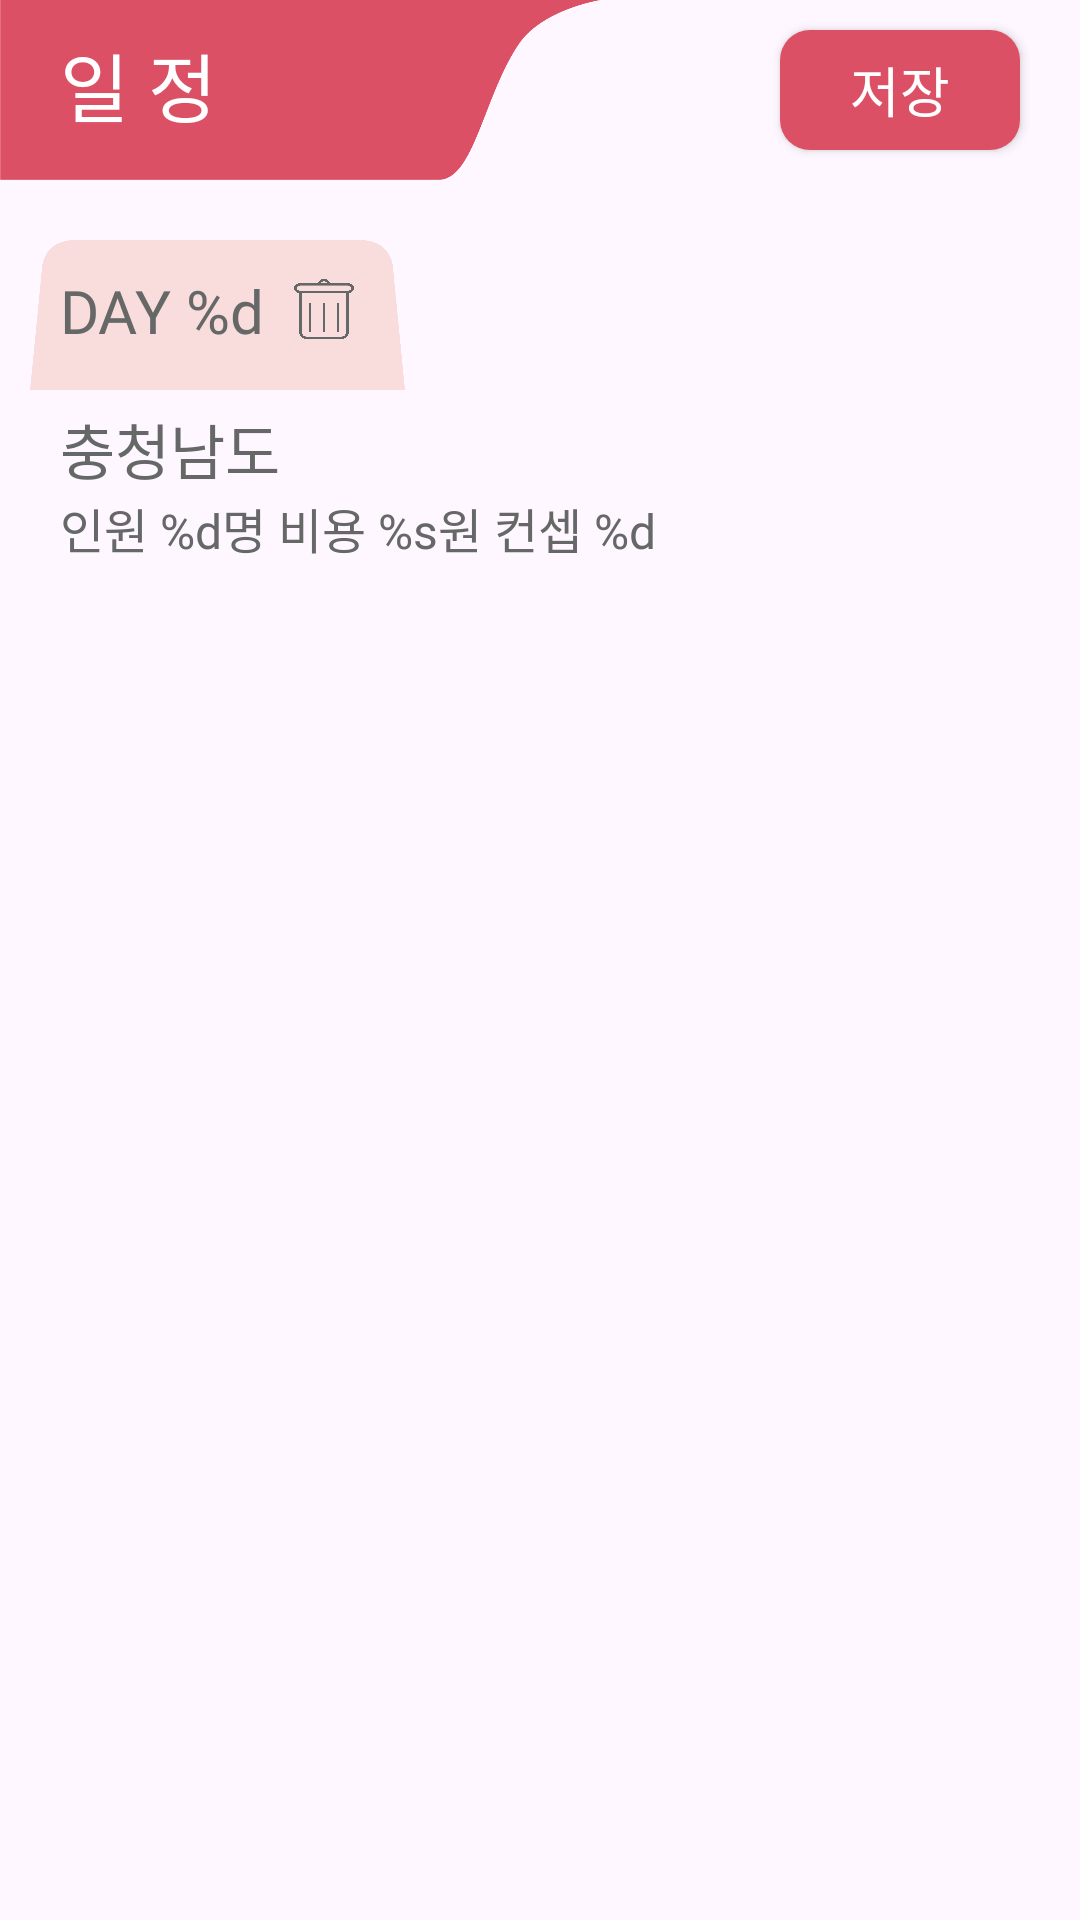

Named icons in this screenshot (1080 x 1920) and their bounding boxes, (x1, y1, x2, y2):
trash: (294, 279, 354, 339)
